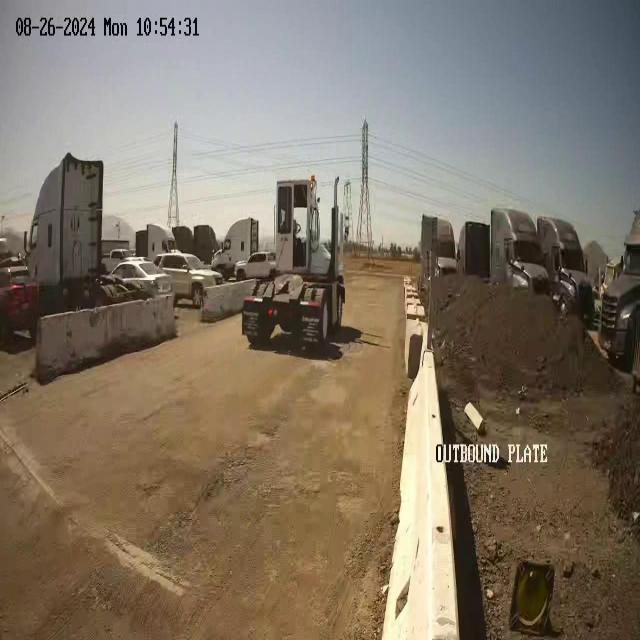TRUCK_IN: (241, 174, 346, 350)
